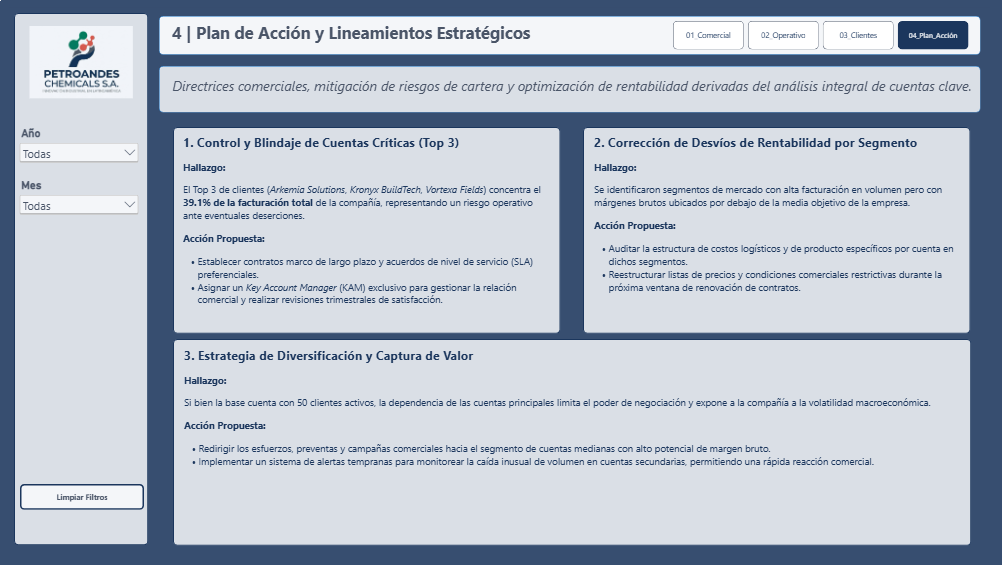

What the dashboard file says about the page in this screenshot:
{"tool":"powerbi","page":{"name":"04_Plan_Acción","canvas":[1920,1080],"ordinal":4},"visuals":[{"type":"shape","box":[300,25,1590,75],"z":0},{"type":"shape","box":[300,121,1590,90],"z":0,"group":"g1"},{"type":"shape","title":"Filtros Globales","box":[20,20,260,1030],"z":1000},{"type":"textbox","box":[320,141,1560,60],"z":1000,"group":"g1"},{"type":"slicer","fields":{"Values":["Dim_Calendario.Año"]},"box":[25,240,240,80.8],"z":2000},{"type":"slicer","fields":{"Values":["Dim_Calendario.Nombre_Mes"]},"box":[25,340,240,80],"z":3000},{"type":"image","box":[20,45,260,140],"z":4000},{"type":"actionButton","title":"Limpiar Filtros","box":[30,930,240,50],"z":5000},{"type":"group","id":"g1","title":"Grupo 1","box":[300,121,1590,90],"z":6000},{"type":"textbox","box":[325,35,1510,75],"z":7000},{"type":"pageNavigator","box":[1294.7,34,575,55],"z":8000},{"type":"shape","box":[326.2,240.5,750,400],"z":9000},{"type":"shape","box":[1121.4,240.5,750,400],"z":10000},{"type":"shape","box":[326.2,650,1545.2,400],"z":11000},{"type":"textbox","box":[345.8,254.2,709.5,369],"z":12000},{"type":"textbox","box":[1141.7,254.2,709.5,369],"z":13000},{"type":"textbox","box":[347.8,665.2,1502.2,369.6],"z":14000}]}

Visuals, with their boxes in screenshot pixels (x1, y1, x2, y2), scaled from the page's 1920x1080 canvas onto the 1002x565 screenshot:
shape: <box>157,13,986,52</box>
shape: <box>157,63,986,110</box>
"Filtros Globales" shape: <box>10,10,146,549</box>
textbox: <box>167,74,981,105</box>
slicer - Dim_Calendario.Año: <box>13,126,138,168</box>
slicer - Dim_Calendario.Nombre_Mes: <box>13,178,138,220</box>
image: <box>10,24,146,97</box>
"Limpiar Filtros" actionButton: <box>16,487,141,513</box>
"Grupo 1" group: <box>157,63,986,110</box>
textbox: <box>170,18,958,58</box>
pageNavigator: <box>676,18,976,47</box>
shape: <box>170,126,562,335</box>
shape: <box>585,126,977,335</box>
shape: <box>170,340,977,549</box>
textbox: <box>180,133,551,326</box>
textbox: <box>596,133,966,326</box>
textbox: <box>182,348,965,541</box>
